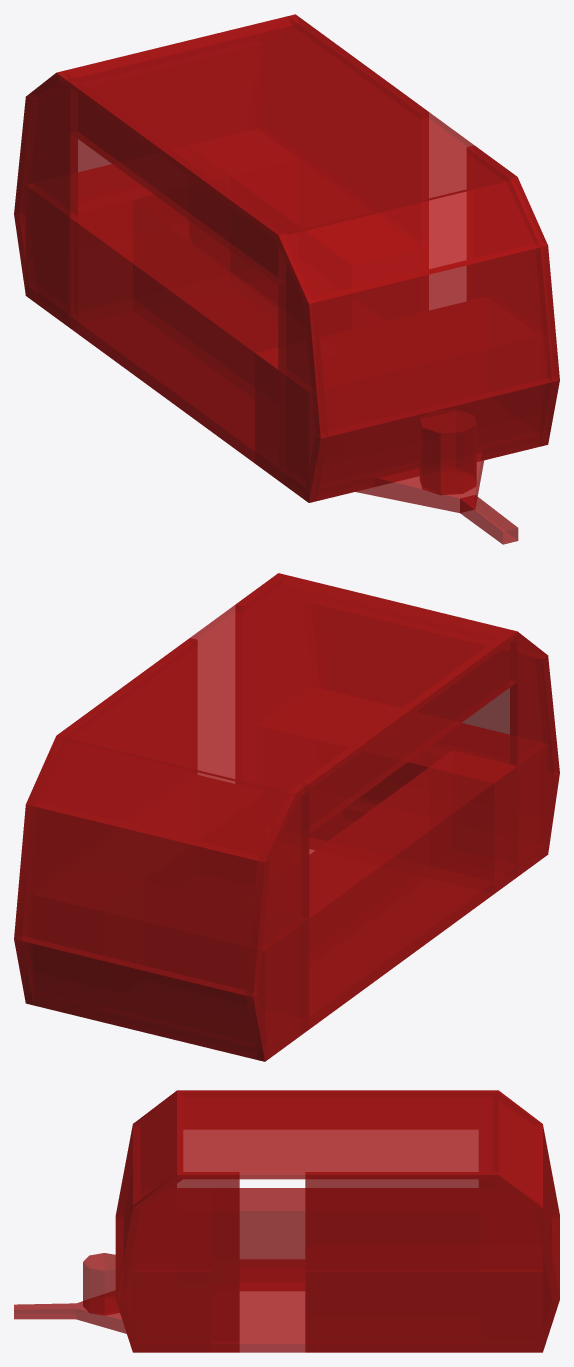
Rendered from SM_Veh_Food_Trailer_02_Collision.fbx.
The picture shows the model from 3 angles, top to bottom: view 1: azimuth 30°, elevation 25°; view 2: azimuth 150°, elevation 25°; view 3: azimuth 270°, elevation 25°; orthographic projection. The views are drawn at different scales.
Parts seen in each view (by area): view 1: SM_Veh_Food_Trailer_02_Collision; view 2: SM_Veh_Food_Trailer_02_Collision; view 3: SM_Veh_Food_Trailer_02_Collision.
Boxes of the visible parts, x1=… form: SM_Veh_Food_Trailer_02_Collision: x1=14, y1=14, x2=559, y2=544; SM_Veh_Food_Trailer_02_Collision: x1=14, y1=573, x2=559, y2=1061; SM_Veh_Food_Trailer_02_Collision: x1=14, y1=1090, x2=559, y2=1352.
Bounding box in the file's own units: 238 × 241 × 649.
